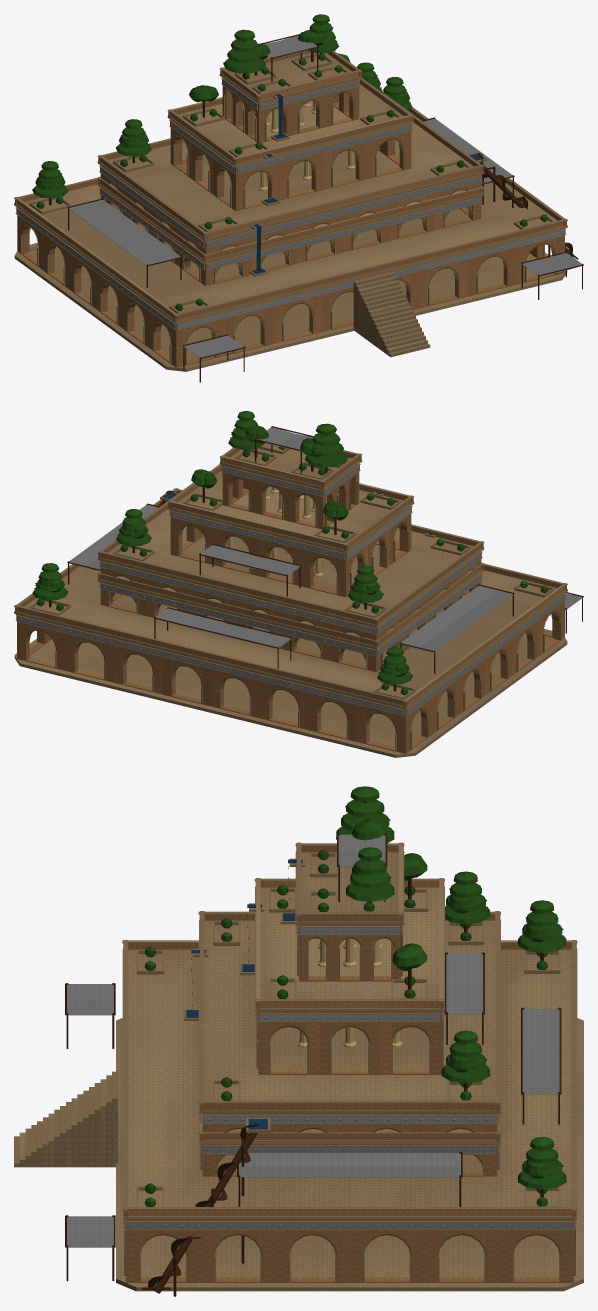
File: hanging_gardens-321146ae.glb
3 renders of one model, top to bottom at view 1: azimuth 30°, elevation 25°; view 2: azimuth 150°, elevation 25°; view 3: azimuth 270°, elevation 25°, orthographic. The views are drawn at different scales.
Parts seen in each view (by area): view 1: LOD0, LOD0.001, LOD0.002; view 2: LOD0, LOD0.001, LOD0.002; view 3: LOD0, LOD0.001, LOD0.002.
Boxes of the visible parts, <box> form: LOD0: <box>14,107,583,382</box>; LOD0.001: <box>29,53,578,313</box>; LOD0.002: <box>17,14,412,361</box>; LOD0: <box>14,488,583,757</box>; LOD0.001: <box>17,464,554,699</box>; LOD0.002: <box>32,411,435,738</box>; LOD0: <box>14,940,583,1291</box>; LOD0.001: <box>126,853,561,1296</box>; LOD0.002: <box>184,786,566,1196</box>.
Size of what is drawn, in the model's own units: 6.63 by 3.65 by 5.6.
Materials: 2 (2 with a texture image).
